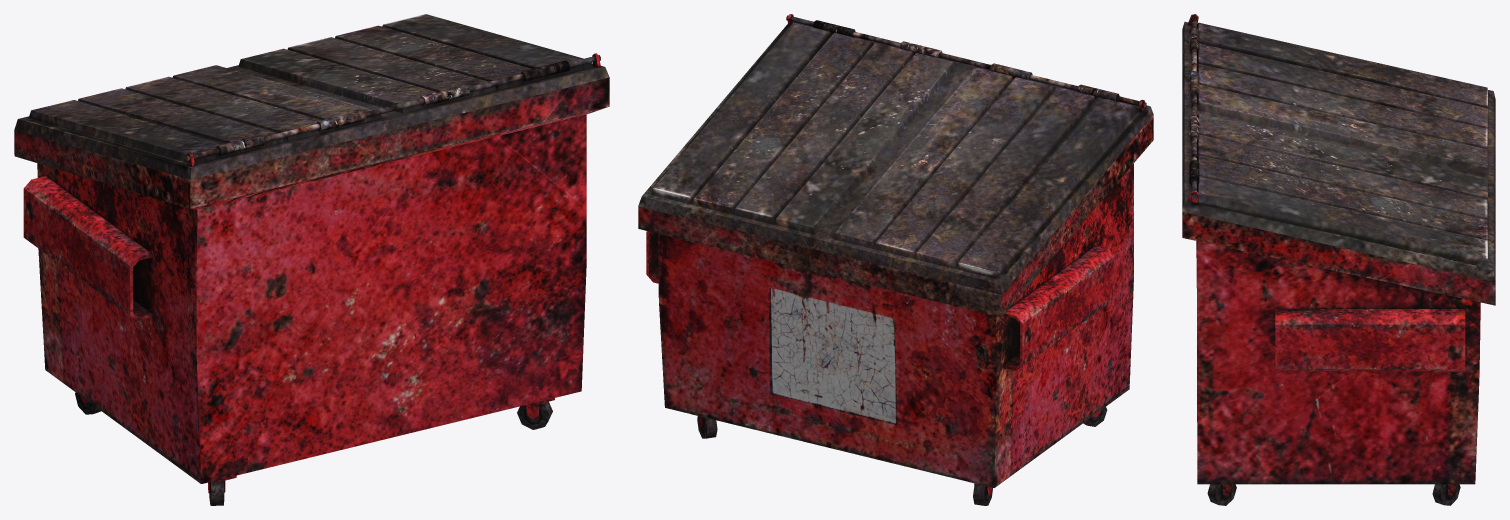
Rendered from dumpster.FBX.
The picture shows the model from 3 angles, left to right: view 1: azimuth 30°, elevation 25°; view 2: azimuth 150°, elevation 25°; view 3: azimuth 270°, elevation 25°; orthographic projection. The views are drawn at different scales.
Parts seen in each view (by area): view 1: dumpster; view 2: dumpster; view 3: dumpster.
Part boxes in pixels (<box>): dumpster: <box>14,14,609,505</box>; dumpster: <box>638,14,1153,505</box>; dumpster: <box>1182,14,1495,505</box>.
Bounding box in the file's own units: 1.81 × 1.49 × 1.27.
